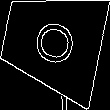O_W: (27, 15, 78, 70)
